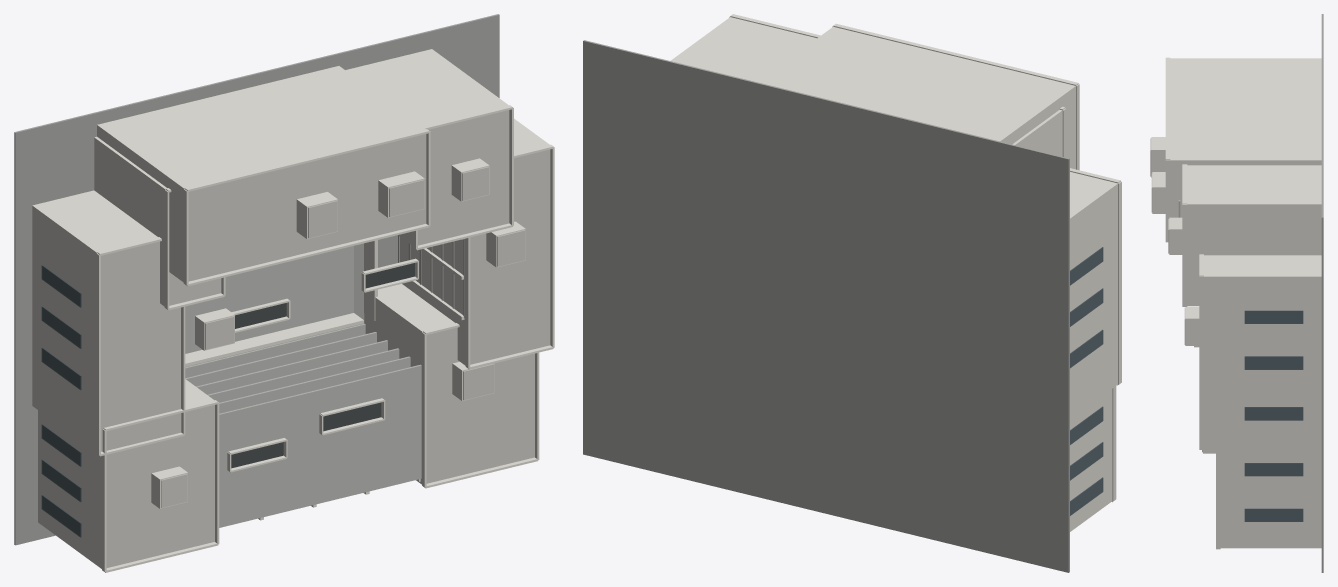
Rendered from courtyard_building_webgl.glb.
3 renders of one model, left to right at view 1: azimuth 30°, elevation 25°; view 2: azimuth 150°, elevation 25°; view 3: azimuth 270°, elevation 25°, orthographic. The views are drawn at different scales.
Visible parts, largest first — view 1: walls, roof, concrete, site, glass, dark; view 2: site, walls, glass; view 3: walls, glass, site, roof.
Boxes of the visible parts, box(x1,y1,x2,y2) form: walls: box(32, 49, 554, 572); roof: box(101, 110, 550, 567); concrete: box(185, 235, 464, 527); site: box(14, 14, 499, 545); glass: box(41, 265, 81, 537); dark: box(231, 263, 414, 468); site: box(583, 40, 1069, 572); walls: box(670, 14, 1121, 531); glass: box(1070, 247, 1103, 515); walls: box(1151, 57, 1321, 549); glass: box(1244, 310, 1303, 521); site: box(1321, 14, 1323, 572); roof: box(1150, 138, 1202, 452).
Bounding box in the file's own units: 86 × 70 × 30.91.
